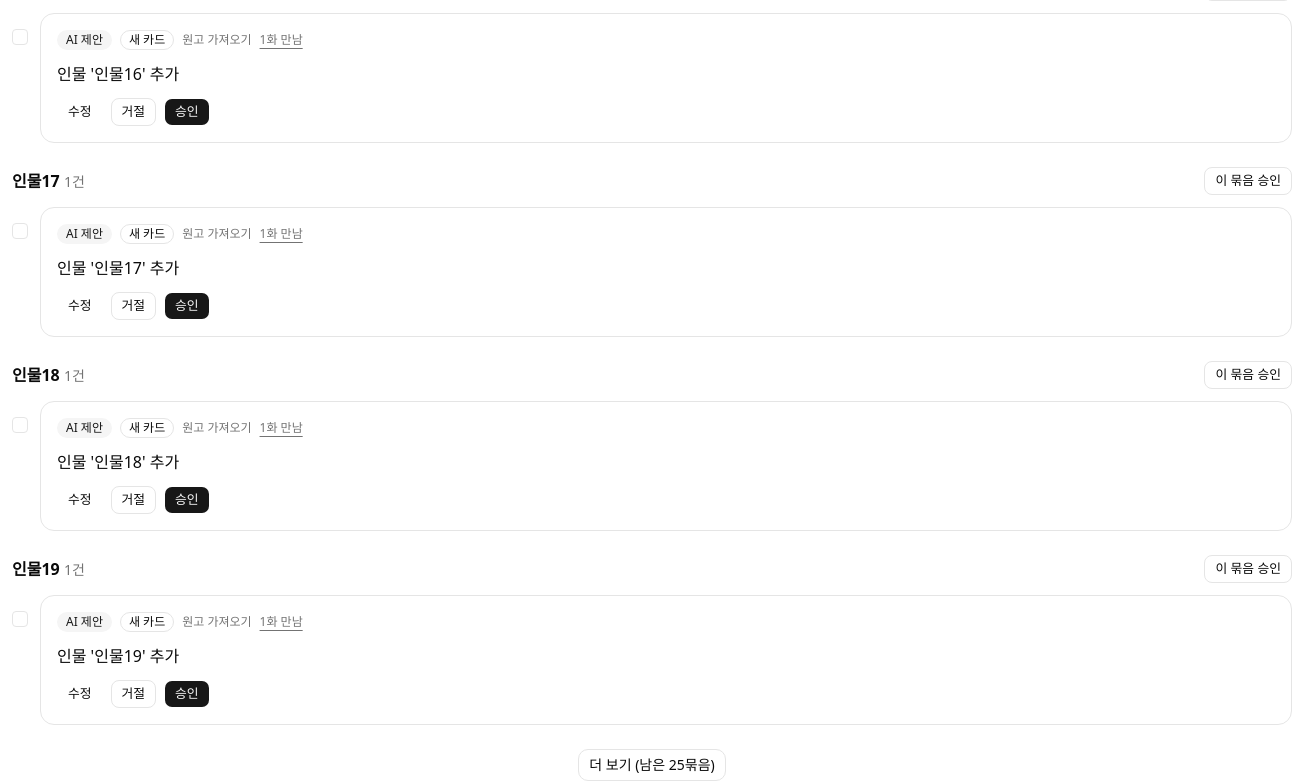
it: ProposalList › renders the first page of groups and loads the rest on demand
(page scrolled)
Click the button "더 보기 (남은 25묶음)" at coordinates (652, 765), box [578,749,726,780]
(page scrolled)
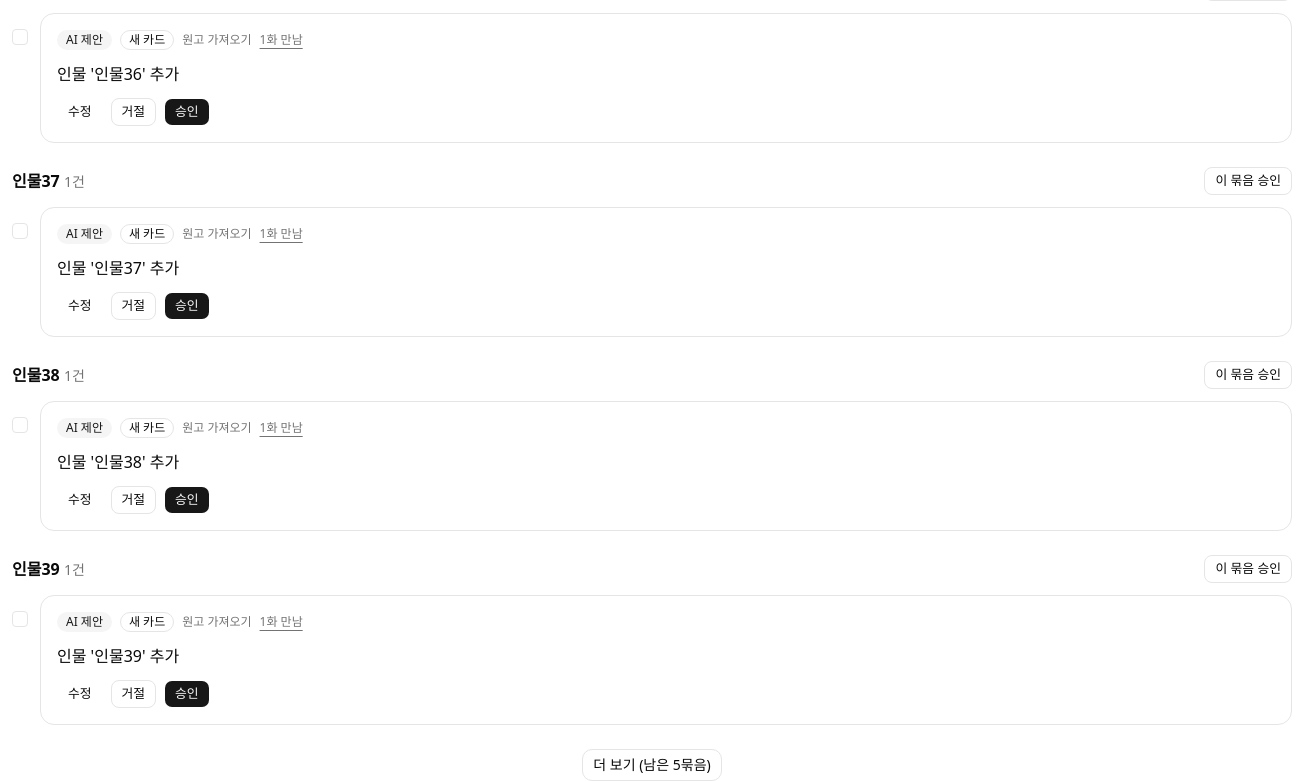
Click the button "더 보기 (남은 5묶음)" at coordinates (652, 765), box [582,749,722,780]
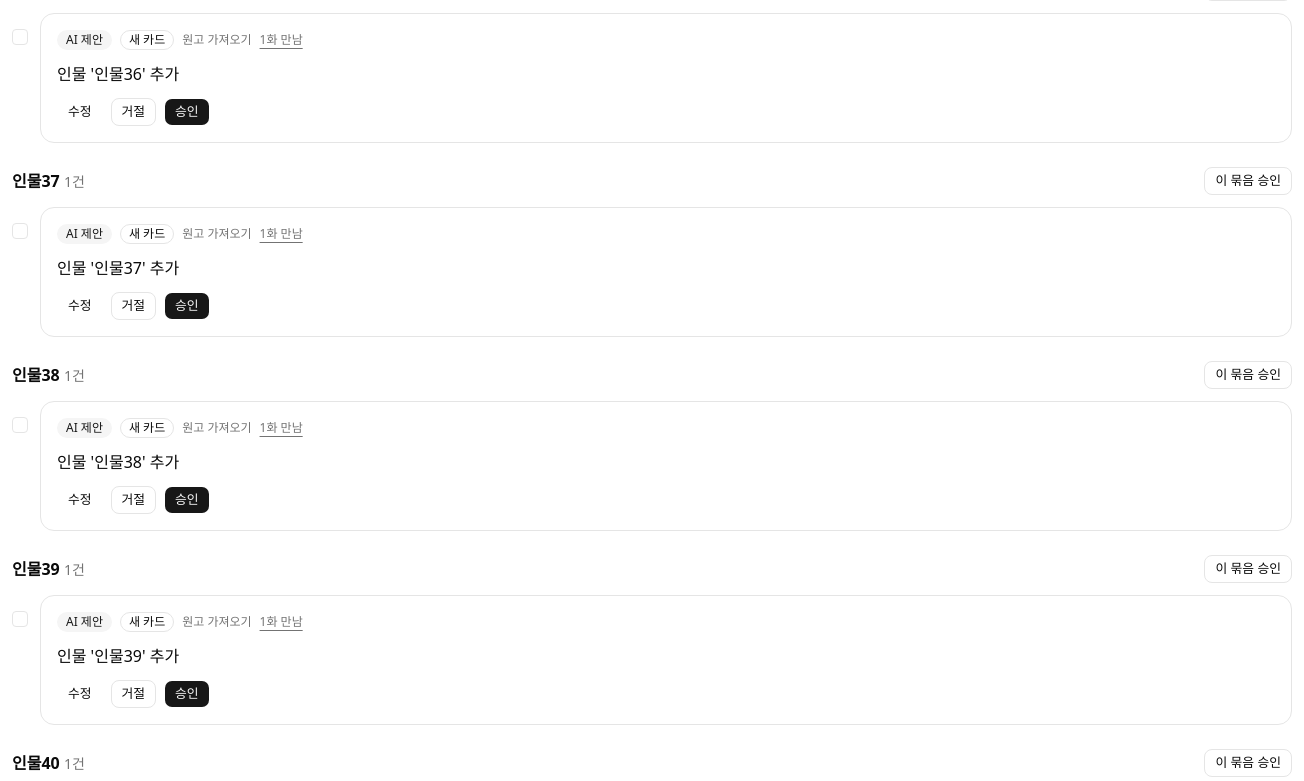
Expected: the button "더 보기" is gone
